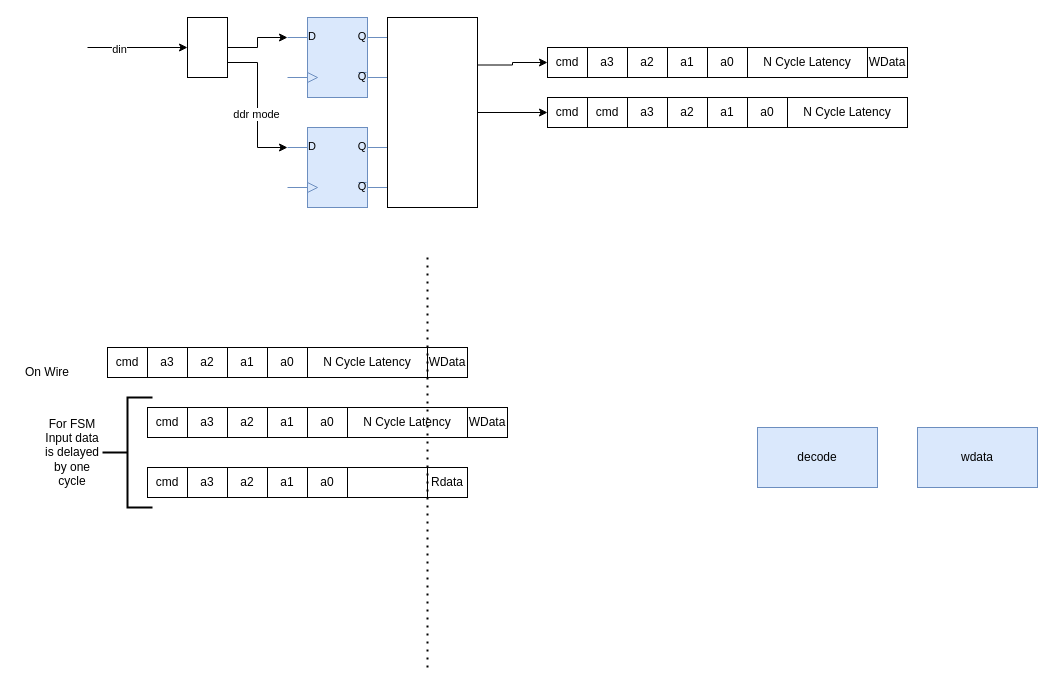
The diagram is 1055 pixels wide and 687 high, and some of its shapes have lost their labels. The centre of each missing label's shape, as x and y in pixels:
"demangle" belongs at (432,112).
"N-1 Cycle Latency" belongs at (387,482).
"shift" belongs at (207,47).
